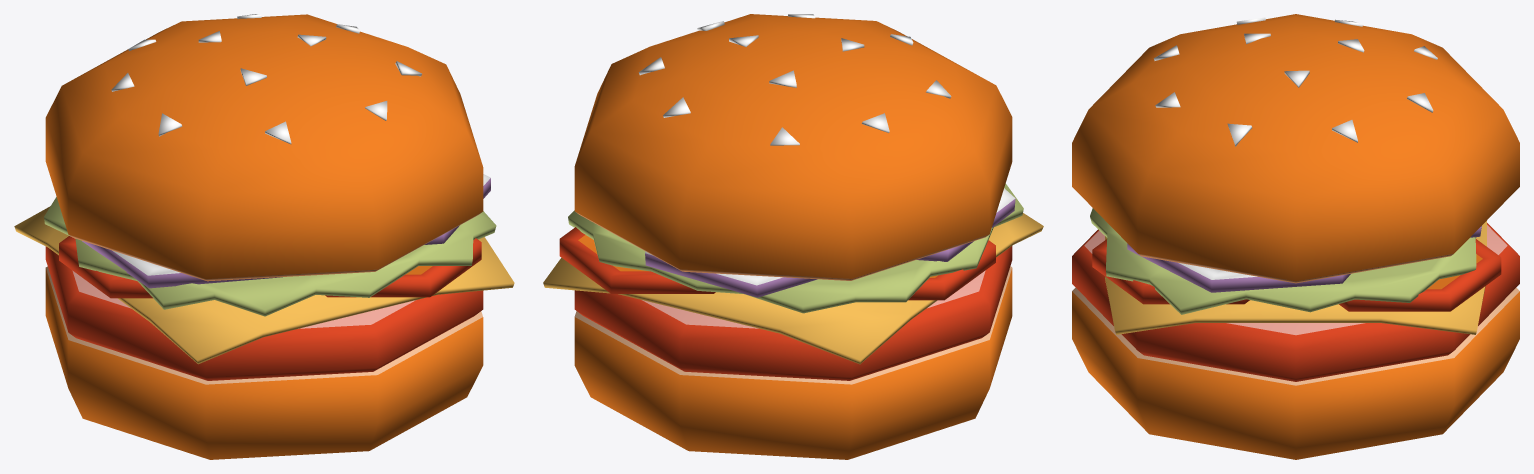
File: Burger.glb
3 views of the same model, side by side, from view 1: azimuth 30°, elevation 25°; view 2: azimuth 150°, elevation 25°; view 3: azimuth 270°, elevation 25° (orthographic).
Visible parts, largest first — view 1: burger; view 2: burger; view 3: burger.
Part boxes in pixels (box(x1,y1,x2,y2)): burger: box(14, 14, 514, 459); burger: box(543, 14, 1043, 459); burger: box(1072, 14, 1519, 459).
Size of the model in its own units: 2 by 1.65 by 2.
Materials: 1 (1 with a texture image).
